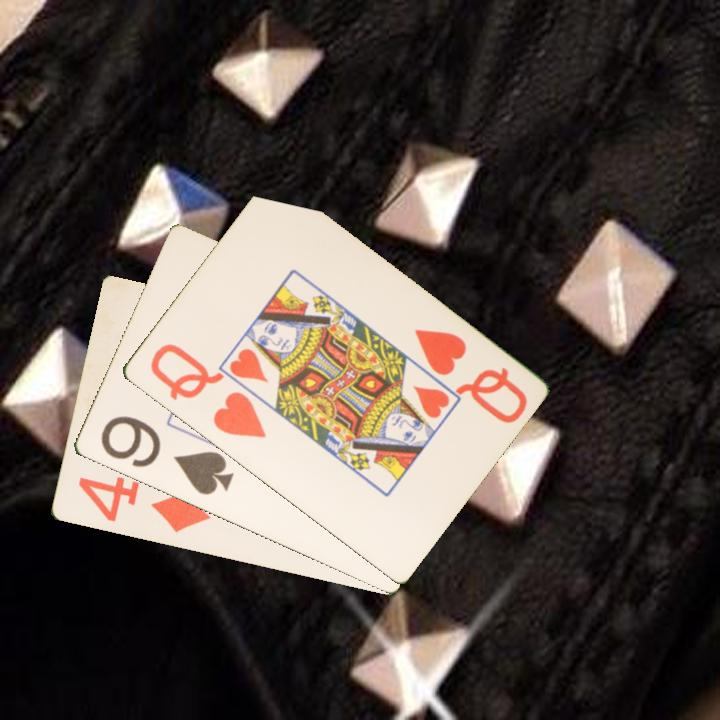4d: (74, 473, 213, 536)
9s: (96, 412, 236, 499)
Qh: (145, 340, 269, 442), (410, 325, 530, 427)
